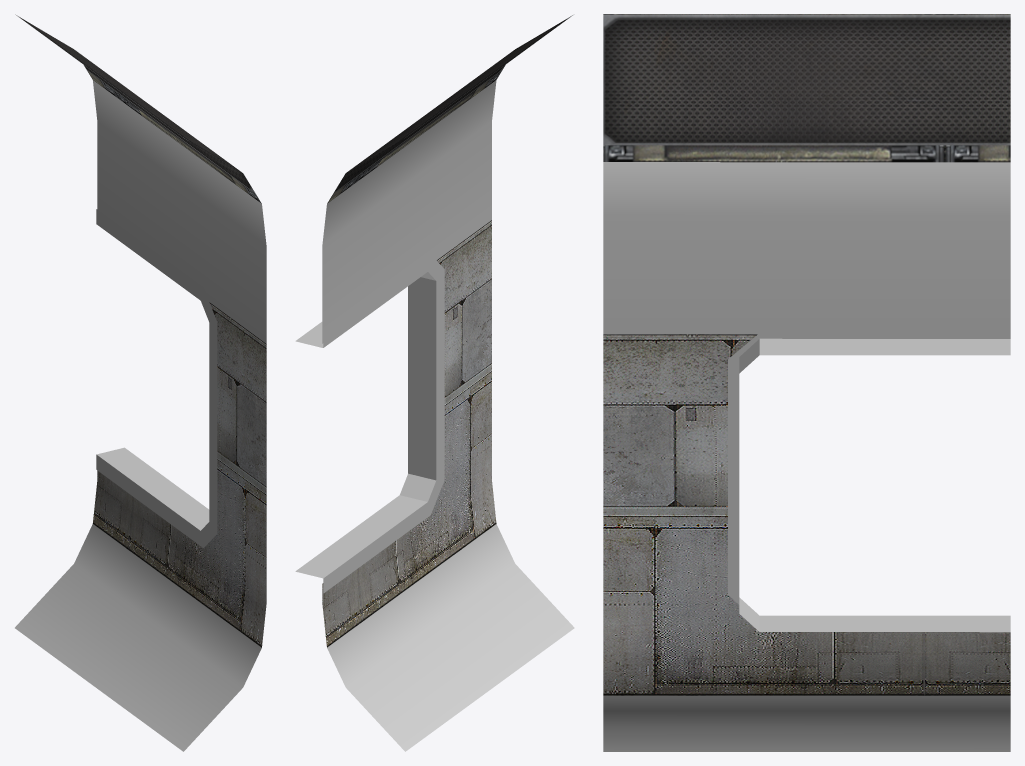
File: Wall_L_Mid4mts_09.fbx
The picture shows the model from 3 angles, left to right: view 1: azimuth 30°, elevation 25°; view 2: azimuth 150°, elevation 25°; view 3: azimuth 270°, elevation 25°; orthographic projection. The views are drawn at different scales.
Visible parts, largest first — view 1: Wall_L_Mid4mts_09; view 2: Wall_L_Mid4mts_09; view 3: Wall_L_Mid4mts_09.
Boxes of the visible parts, x1=… form: Wall_L_Mid4mts_09: x1=15, y1=14, x2=266, y2=751; Wall_L_Mid4mts_09: x1=295, y1=15, x2=574, y2=751; Wall_L_Mid4mts_09: x1=603, y1=14, x2=1010, y2=751.
Bounding box in the file's own units: 75.28 × 400 × 200.
